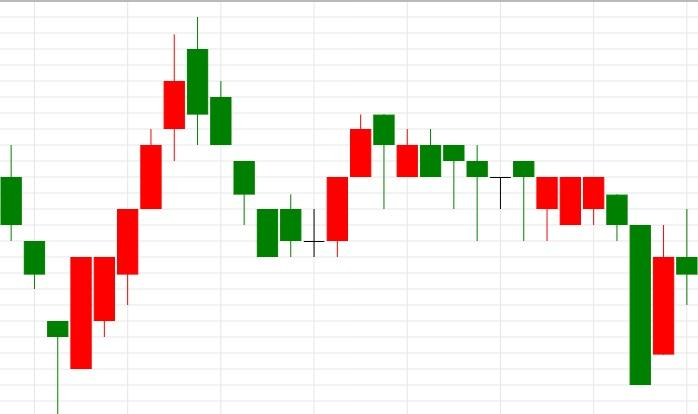hanging_man_fall: (304, 115, 395, 256)
morning_star_rise: (187, 16, 348, 256)
